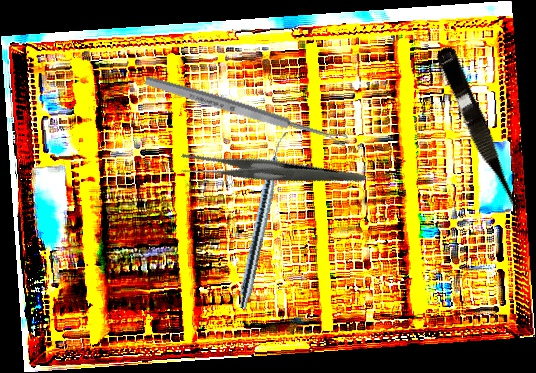Dressing Forceps: (175, 105, 367, 240)
Handpiece: (236, 129, 290, 311)
Micro Scissor: (431, 44, 528, 223)
Surgical Spoon: (143, 73, 349, 149)
